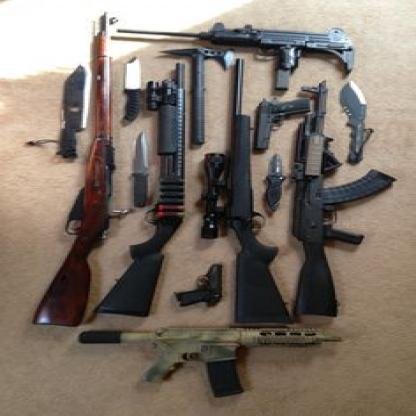Gun: (27, 8, 134, 328), (196, 54, 297, 328), (92, 60, 190, 318), (292, 79, 397, 319), (76, 324, 344, 398), (114, 19, 358, 94)
Knife: (54, 62, 98, 161), (338, 79, 378, 166), (121, 57, 147, 126), (266, 152, 283, 211)
Pistol: (252, 96, 312, 153), (173, 262, 226, 311)
